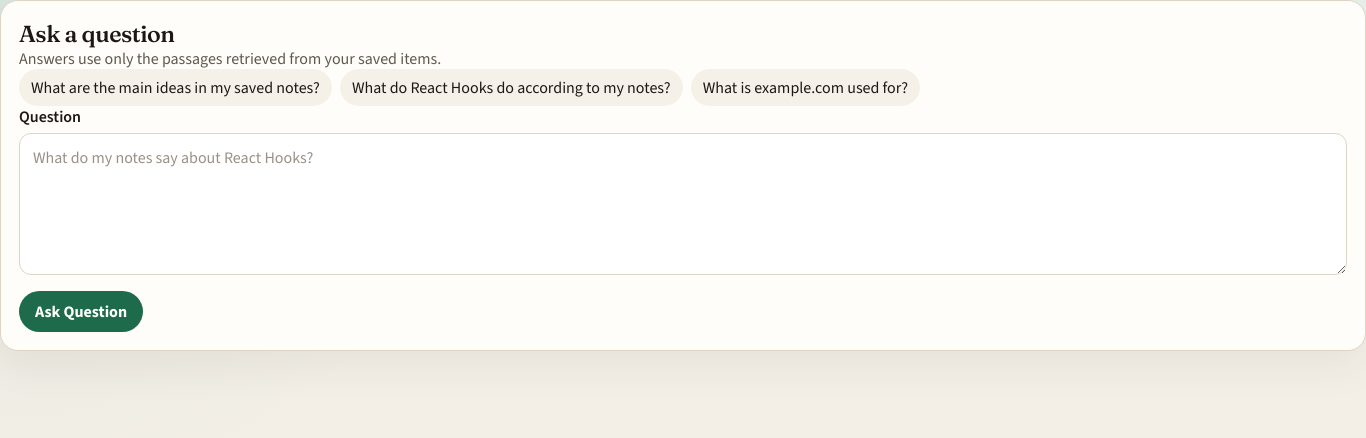
Test: QueryPanel › requires a question
Step 1. Click the button "Ask Question" → (81, 311), box x1=19 y1=291 x2=143 y2=332
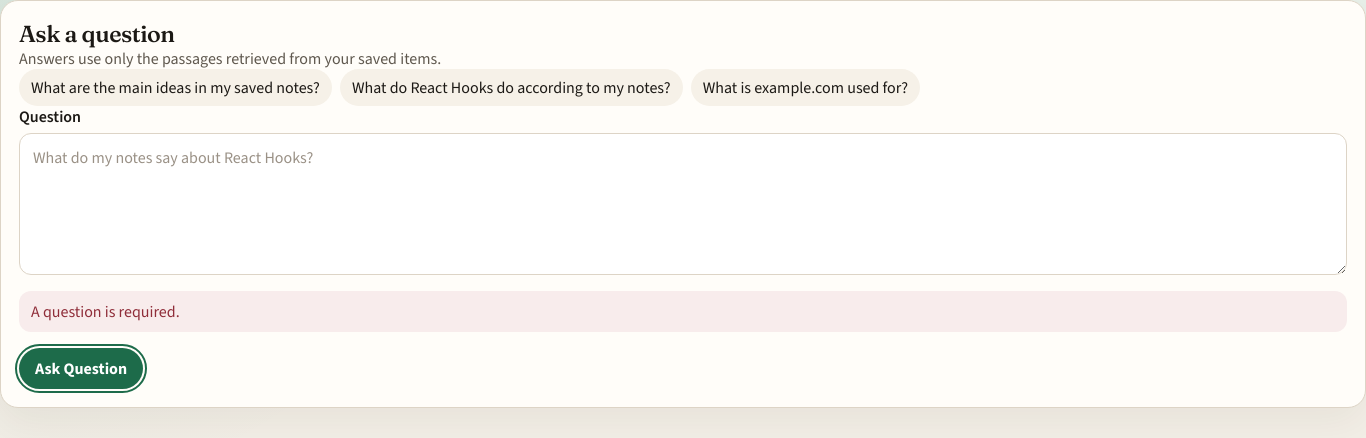
Expected: the message reads "A question is required.", x1=31 y1=301 x2=180 y2=322
